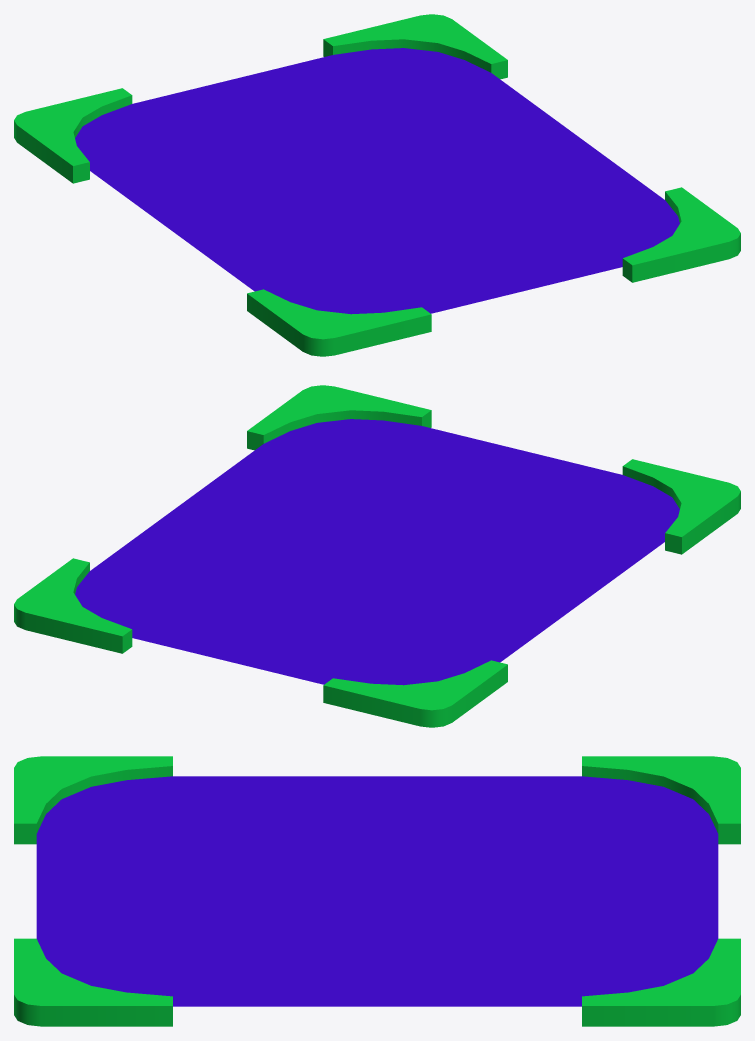
Rendered from sm_Nav_1.fbx.
The picture shows the model from 3 angles, top to bottom: view 1: azimuth 30°, elevation 25°; view 2: azimuth 150°, elevation 25°; view 3: azimuth 270°, elevation 25°; orthographic projection. The views are drawn at different scales.
Visible parts, largest first — view 1: Plane; view 2: Plane; view 3: Plane.
Boxes of the visible parts, box(x1,y1,x2,y2) form: Plane: box(14, 14, 740, 356); Plane: box(14, 385, 740, 727); Plane: box(14, 756, 740, 1026).
Size of the model in its own units: 260 by 10 by 320.
